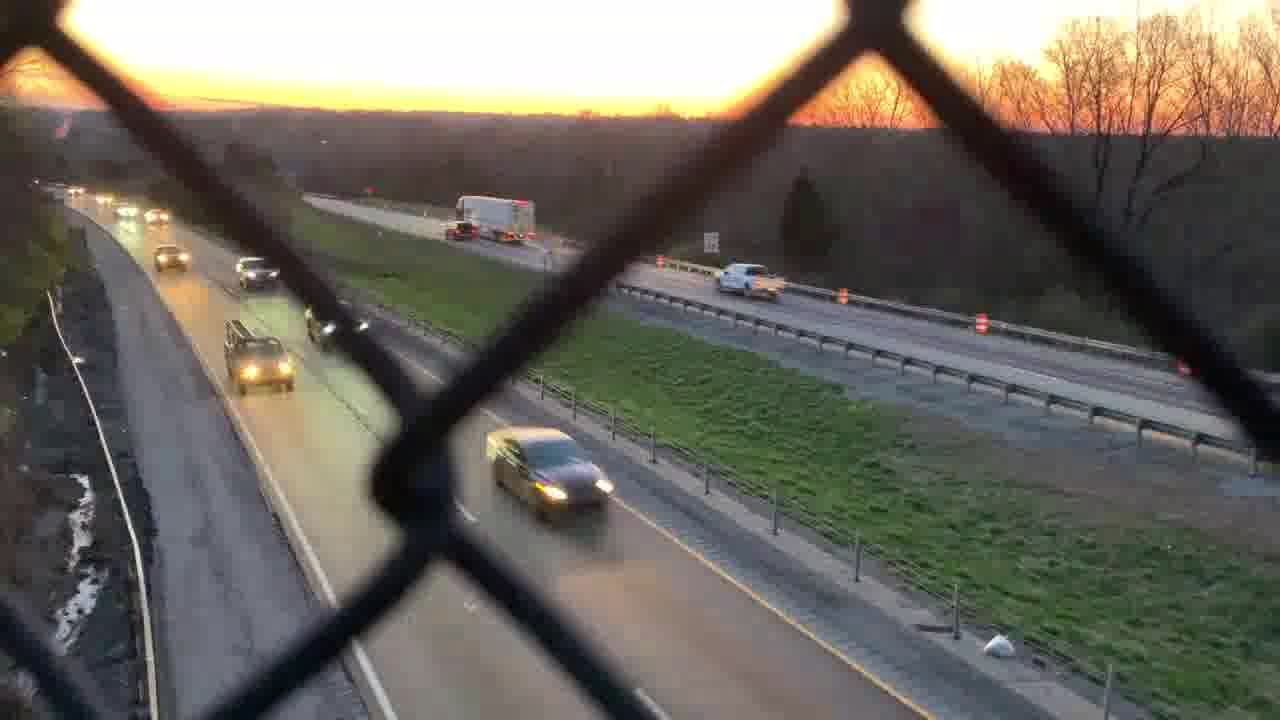heavyTruck: (456, 192, 532, 243)
lightTruck: (716, 263, 791, 300)
smallCar: (481, 423, 616, 517)
